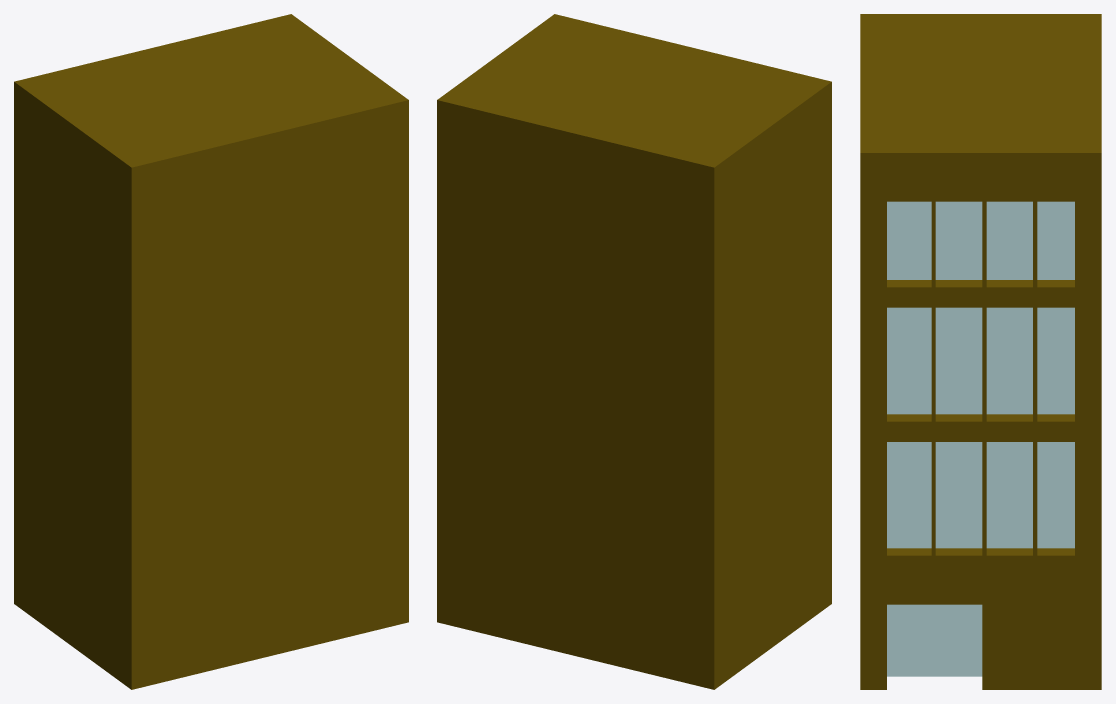
The model's file is Haneji_test4 1.fbx.
3 views of the same model, side by side, from view 1: azimuth 30°, elevation 25°; view 2: azimuth 150°, elevation 25°; view 3: azimuth 270°, elevation 25° (orthographic). The views are drawn at different scales.
Parts seen in each view (by area): view 1: MiniBill2; view 2: MiniBill2; view 3: MiniBill2.
Part boxes in pixels (x1=…): MiniBill2: x1=14, y1=14, x2=408, y2=689; MiniBill2: x1=437, y1=14, x2=831, y2=689; MiniBill2: x1=860, y1=14, x2=1101, y2=689.
Size of the model in its own units: 1000 by 1800 by 734.
